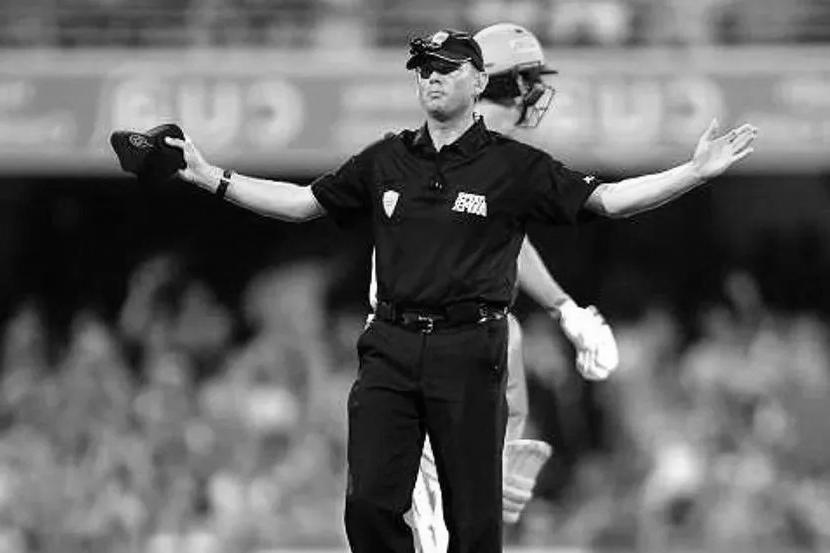umpire_wide_ball: (81, 26, 776, 341)
